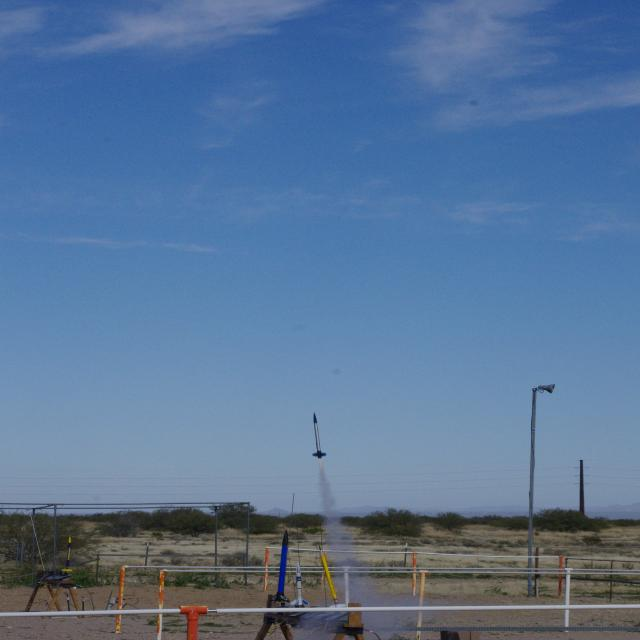Rocket: (318, 544, 346, 608), (270, 530, 290, 603), (290, 562, 309, 606), (311, 412, 327, 459), (62, 536, 73, 572)
